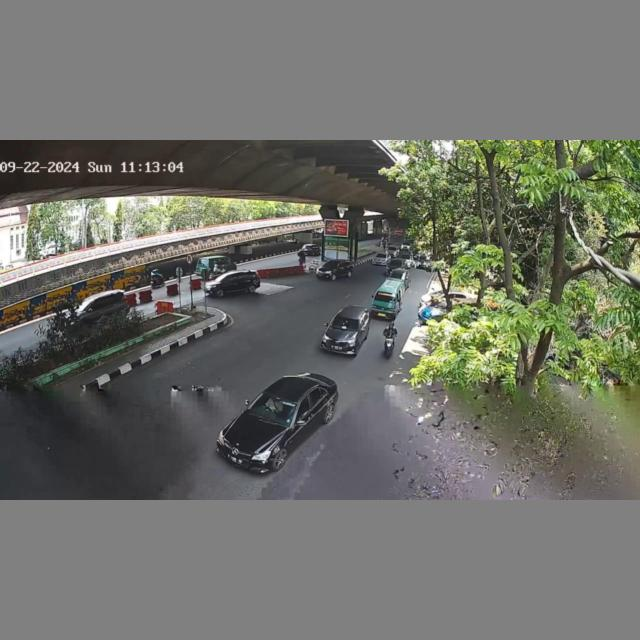windshield: (249, 389, 300, 423), (331, 314, 360, 331), (374, 291, 396, 303)
